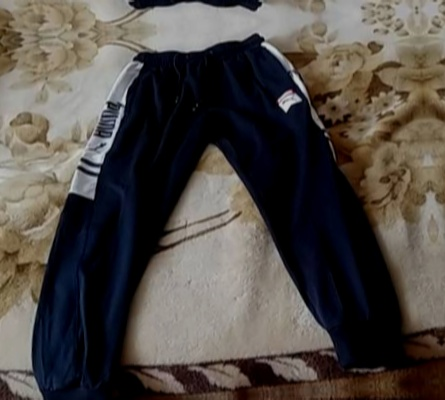Pants: (0, 31, 418, 400), (0, 0, 390, 22), (26, 393, 445, 400), (445, 0, 445, 370)
